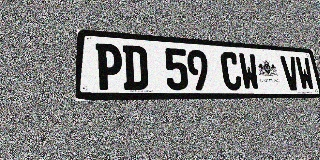5: (164, 48, 189, 90)
9: (186, 49, 210, 90)
C: (220, 51, 243, 90)
D: (122, 45, 148, 90)
P: (95, 43, 123, 90)
V: (280, 56, 301, 90)
W: (238, 53, 260, 90), (295, 57, 315, 90)
